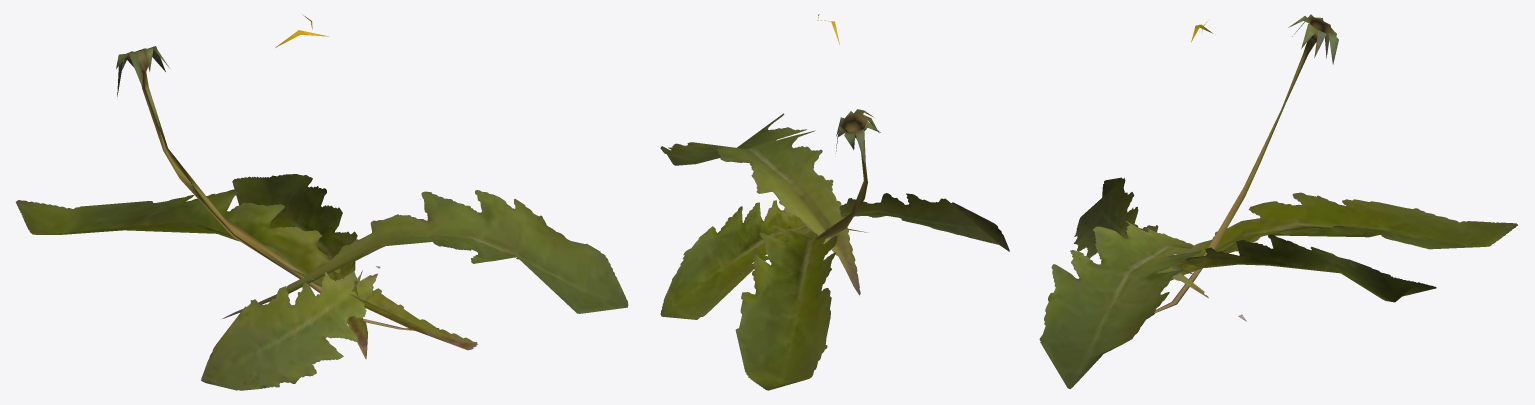
3 renders of one model, left to right at view 1: azimuth 30°, elevation 25°; view 2: azimuth 150°, elevation 25°; view 3: azimuth 270°, elevation 25°, orthographic. The views are drawn at different scales.
Visible parts, largest first — view 1: dandelion_01__a_lod1; view 2: dandelion_01__a_lod1; view 3: dandelion_01__a_lod1.
Part boxes in pixels (box(x1,y1,x2,y2)): dandelion_01__a_lod1: box(16, 14, 628, 390); dandelion_01__a_lod1: box(660, 14, 1009, 390); dandelion_01__a_lod1: box(1039, 14, 1517, 388).
Size of the model in its own units: 0.2483 by 0.1748 by 0.2822.
Materials: 1 (1 with a texture image).
